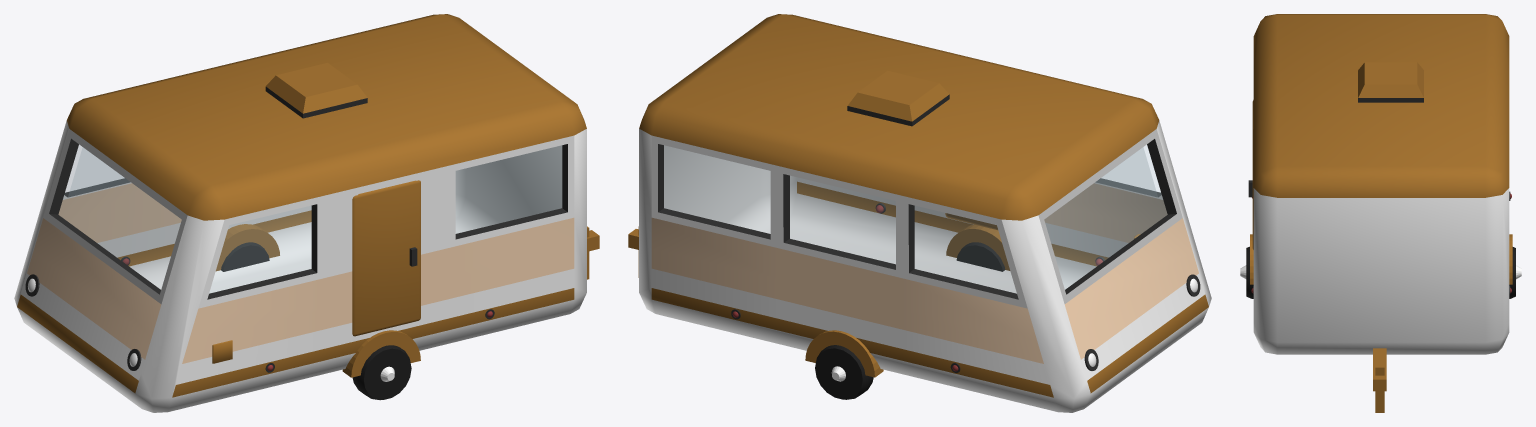
Rendered from caravan_hollow.glb.
3 views of the same model, side by side, from view 1: azimuth 30°, elevation 25°; view 2: azimuth 150°, elevation 25°; view 3: azimuth 270°, elevation 25° (orthographic). The views are drawn at different scales.
Parts seen in each view (by area): view 1: ChamferBox001; view 2: ChamferBox001; view 3: ChamferBox001.
Part boxes in pixels (x1,y1,x2,y2): ChamferBox001: [14, 14, 599, 412]; ChamferBox001: [628, 14, 1211, 412]; ChamferBox001: [1240, 14, 1521, 412].
Bounding box in the file's own units: 80.09 × 38.91 × 42.75.
